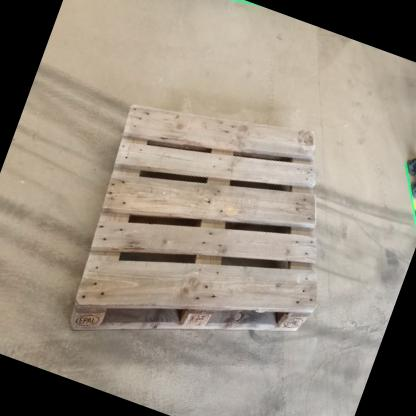BoxFace: (59, 97, 326, 340)
